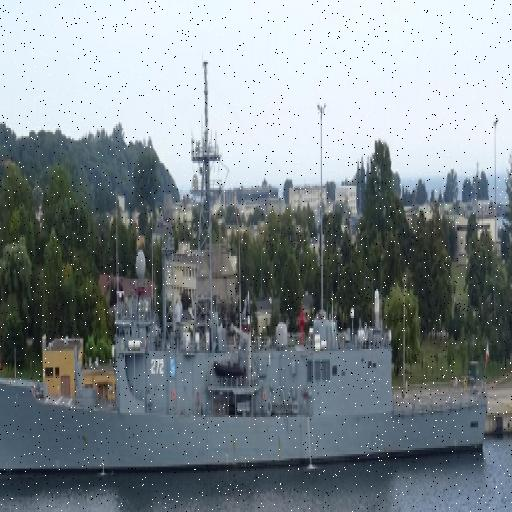Fragata: (1, 61, 492, 505)
